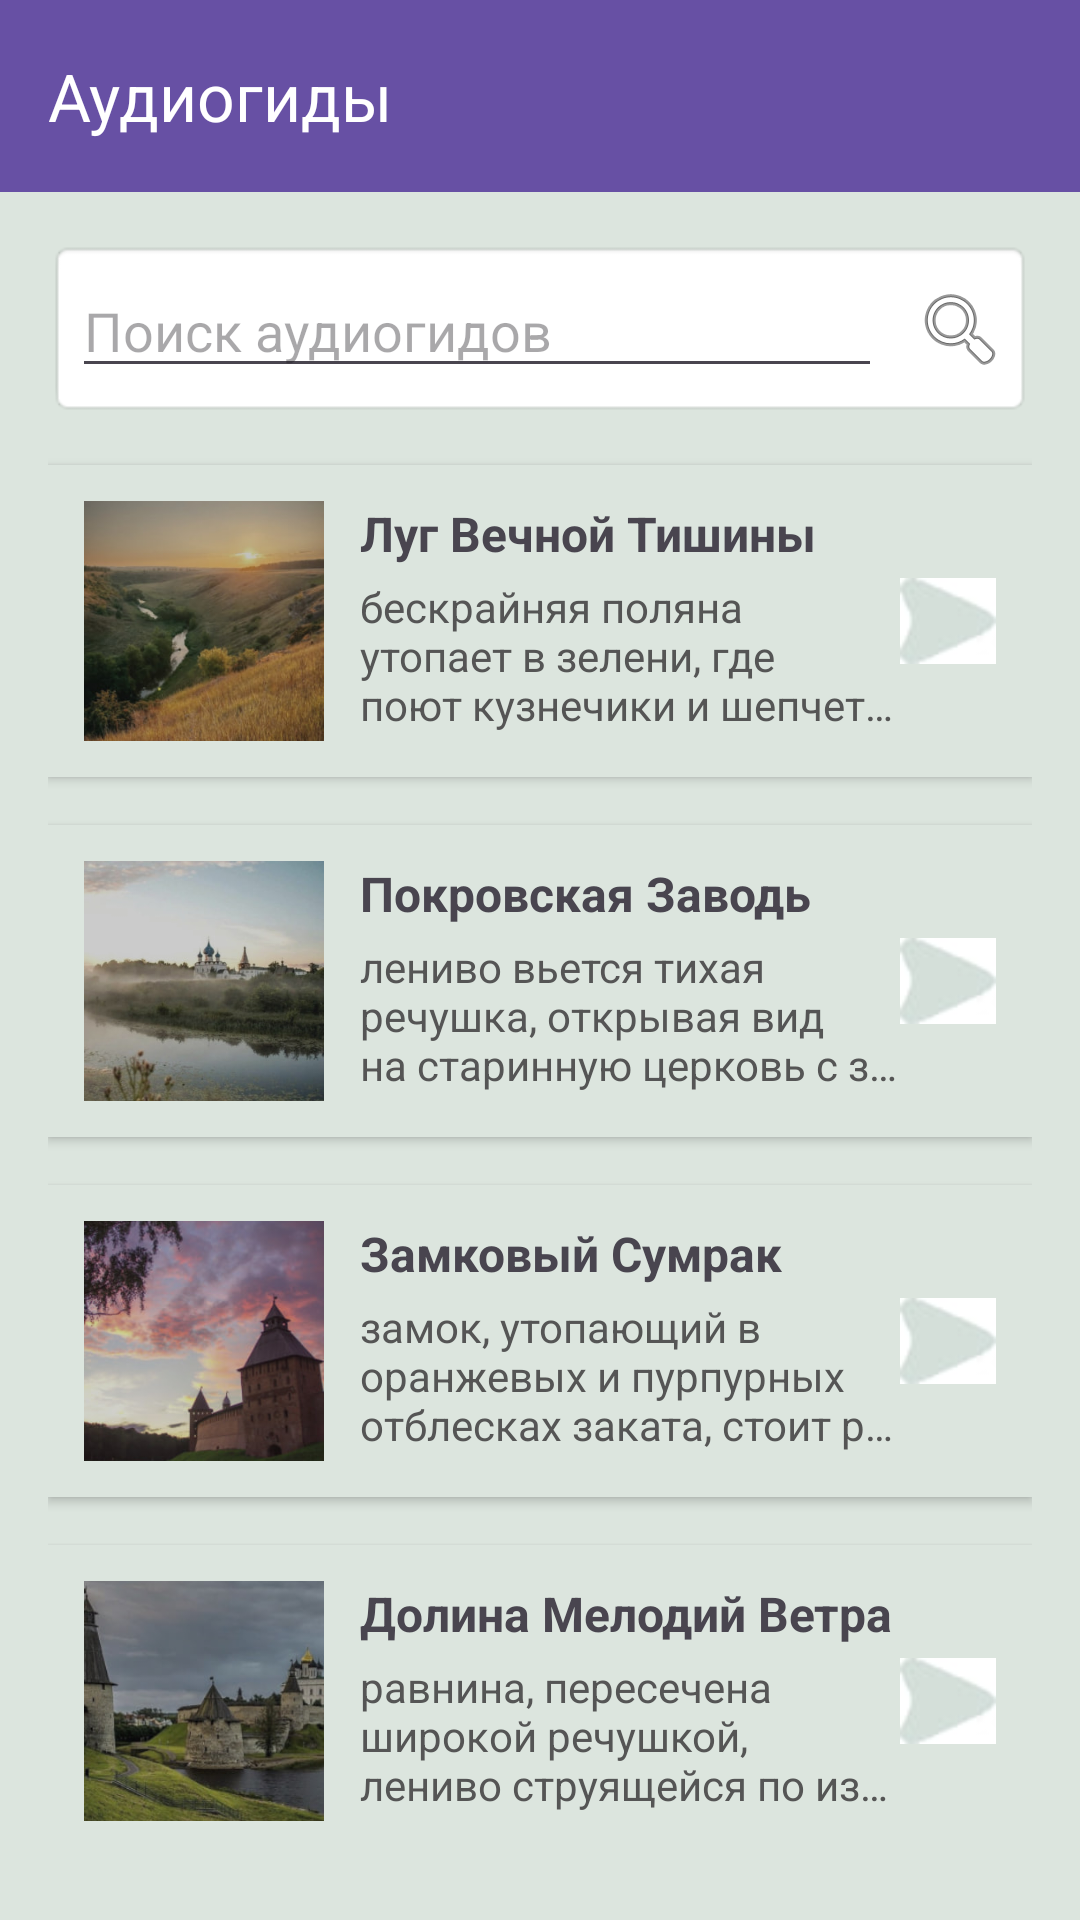

Icon click points for this 1080x1920 phone screenshot, format [x,y]:
play: [948,621], [948,981], [948,1341], [948,1701]
search: [960,329]
